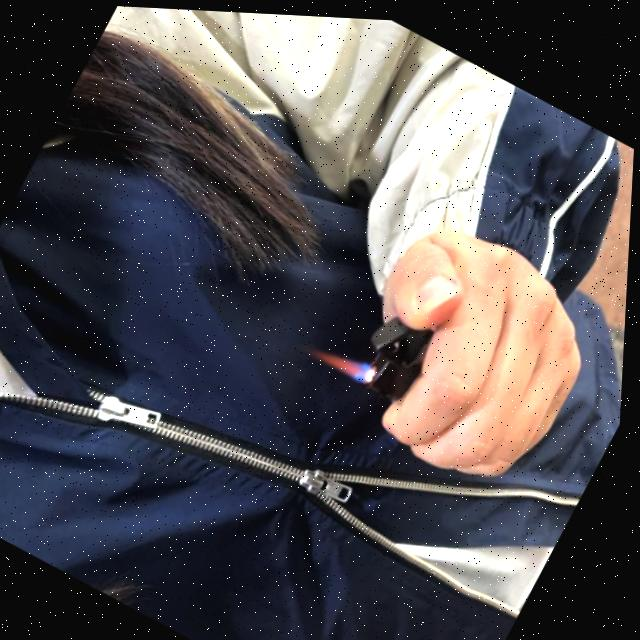Fire: (307, 331, 384, 384)
